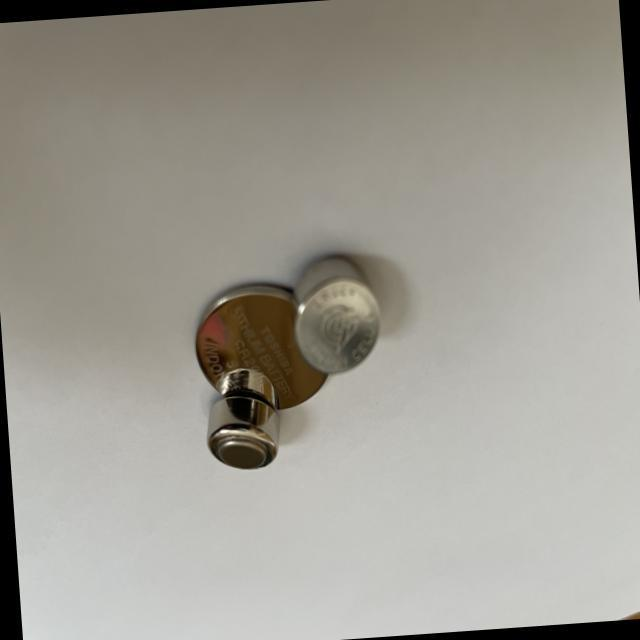COIN: (188, 278, 326, 416), (288, 252, 382, 374), (202, 387, 280, 475)
